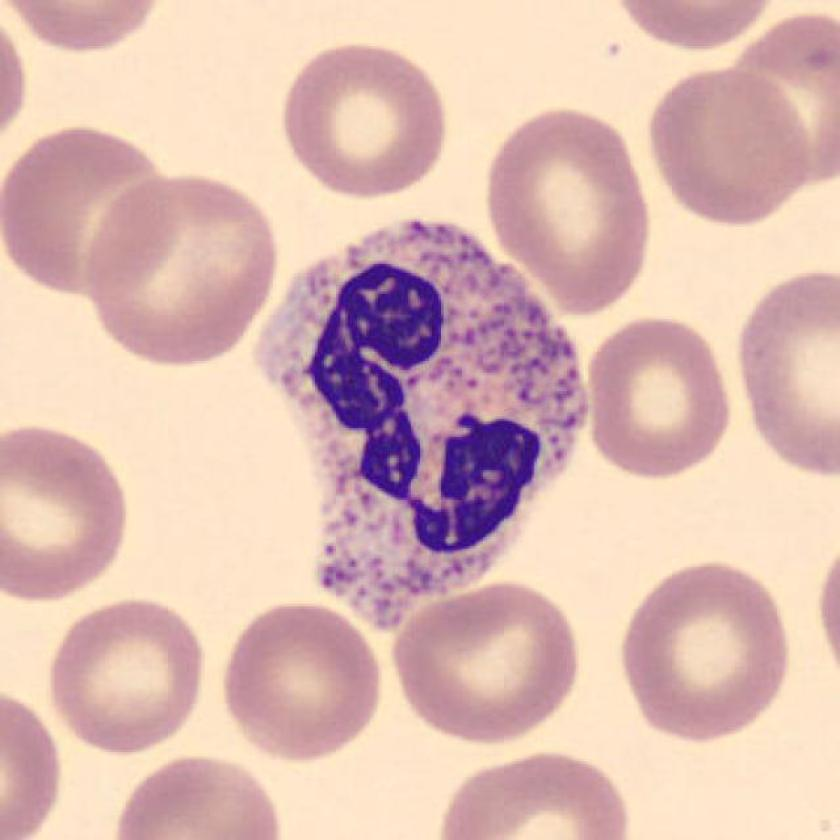neutrophil: (256, 221, 589, 631)
